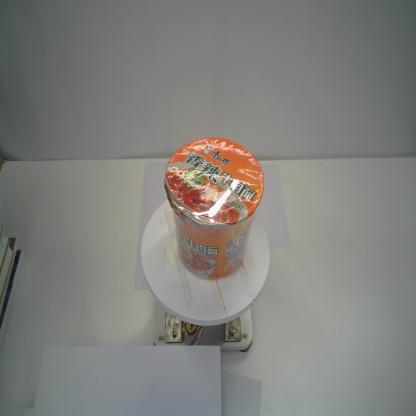Instant Noodles: (164, 135, 266, 282)
